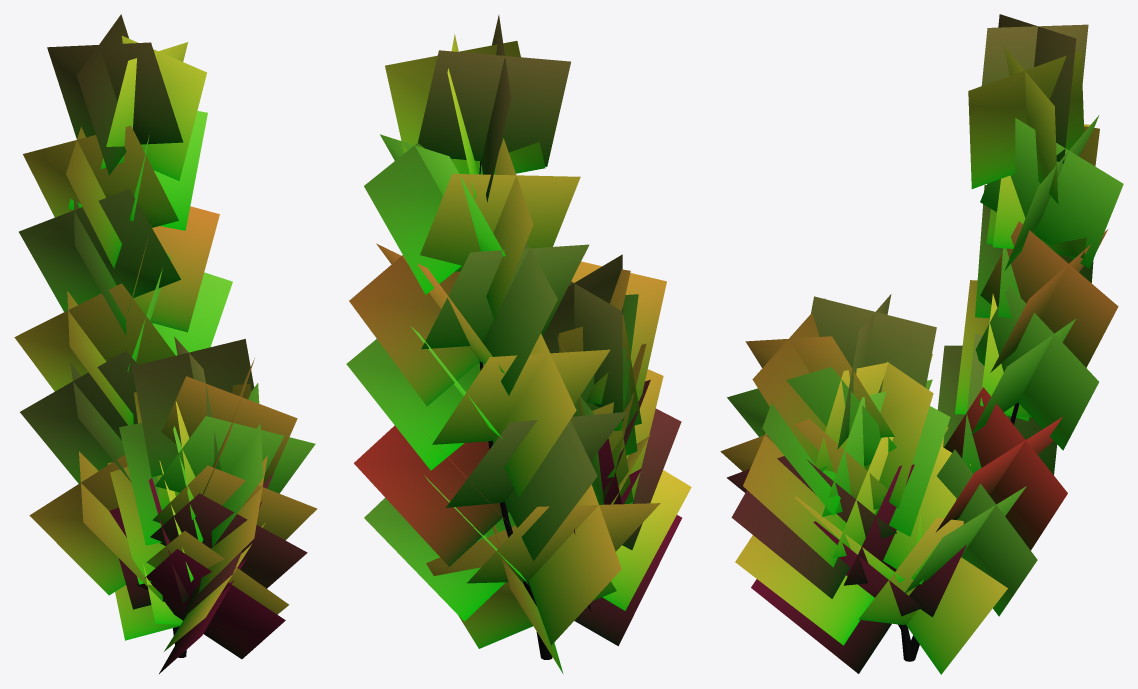
Rendered from Tree_16.fbx.
The picture shows the model from 3 angles, left to right: view 1: azimuth 30°, elevation 25°; view 2: azimuth 150°, elevation 25°; view 3: azimuth 270°, elevation 25°; orthographic projection. The views are drawn at different scales.
Parts seen in each view (by area): view 1: Tree_16; view 2: Tree_16; view 3: Tree_16.
Part boxes in pixels (x1,y1,x2,y2): Tree_16: [14, 14, 317, 673]; Tree_16: [346, 15, 691, 673]; Tree_16: [720, 14, 1123, 674].
Size of the model in its own units: 637 by 1657 by 956.
